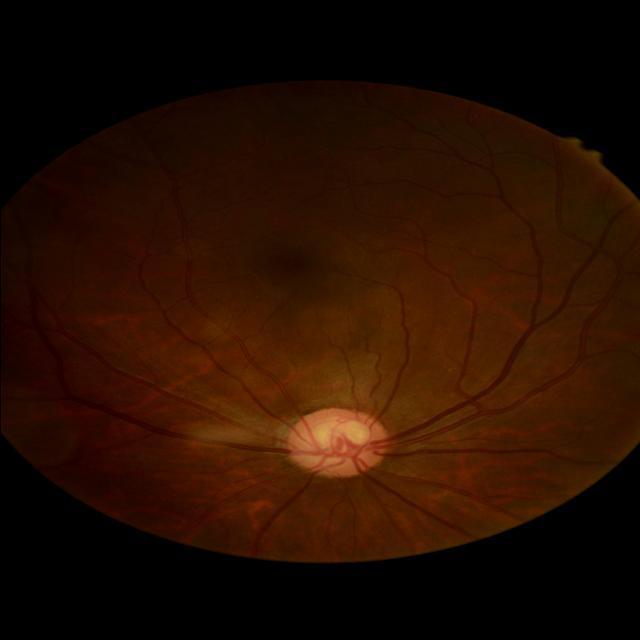cup: (296, 420, 369, 467)
disk: (285, 408, 388, 480)
